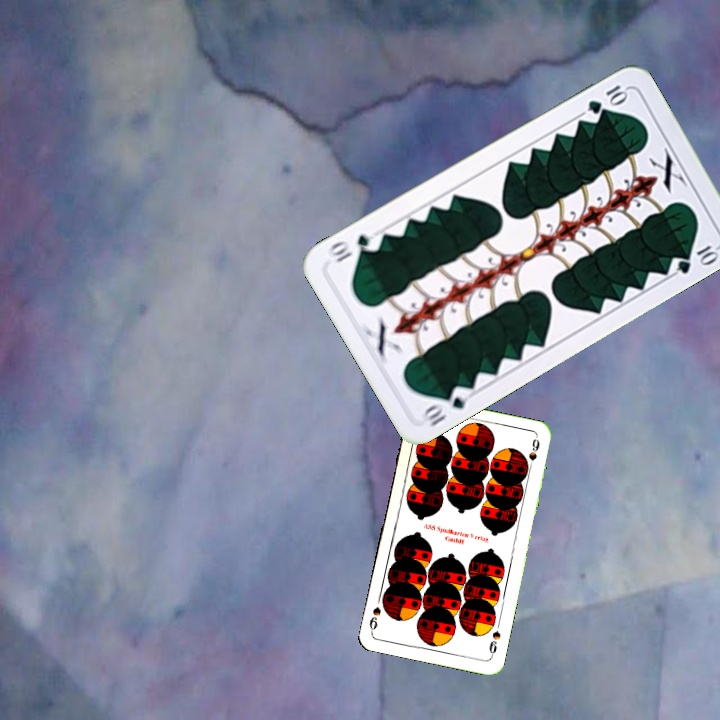G10: (417, 381, 469, 429), (583, 81, 630, 117)
S9: (485, 627, 503, 660)
